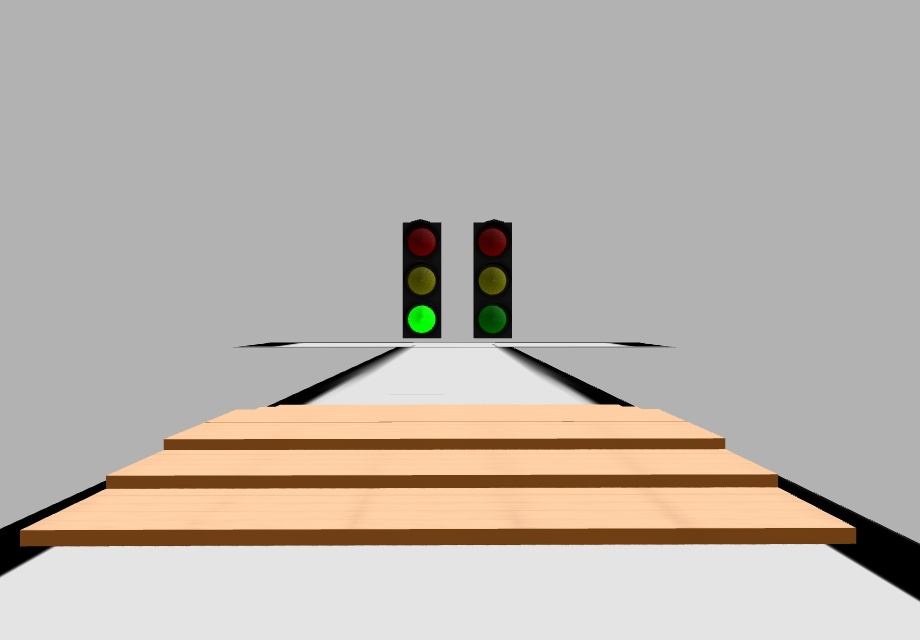green_off: (476, 302, 512, 337)
green_on: (403, 303, 441, 339)
stairs: (21, 402, 855, 543)
